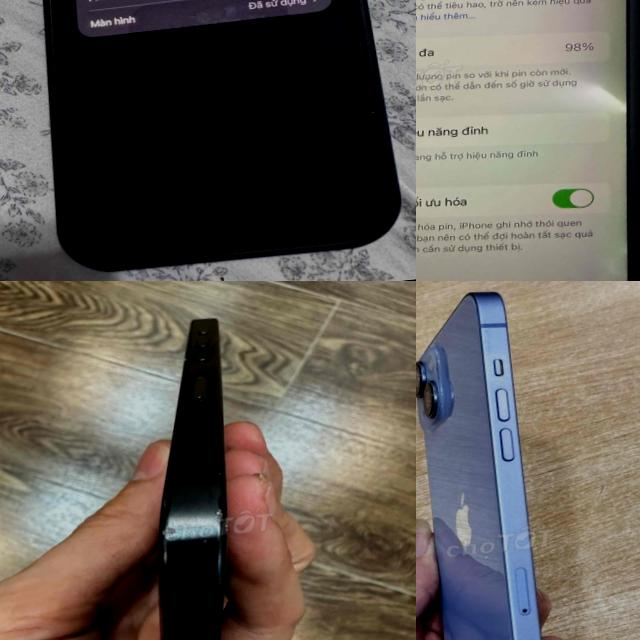gen_14: (0, 0, 416, 281), (416, 286, 564, 640)
gen_15: (123, 307, 267, 640)
gen_7_8: (416, 0, 640, 281)
scratch: (213, 505, 229, 533), (160, 524, 177, 538), (160, 496, 169, 508), (215, 470, 222, 476), (202, 536, 208, 542), (183, 356, 188, 362)
